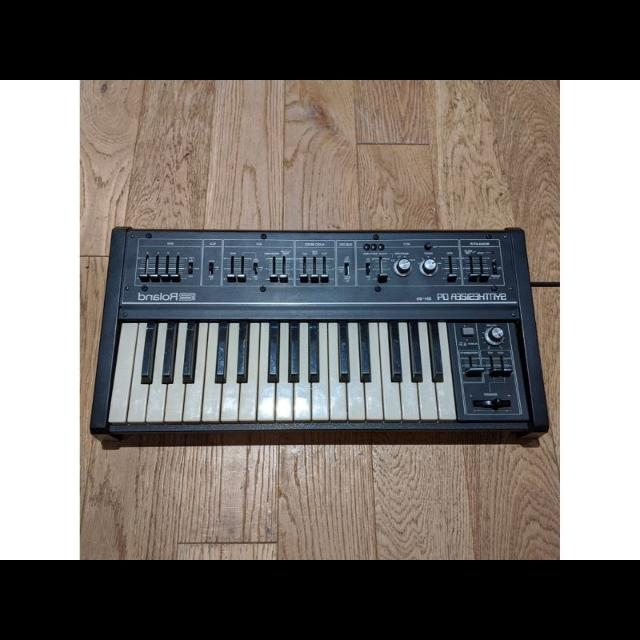Electronic-Keyboard: (89, 220, 551, 452)
